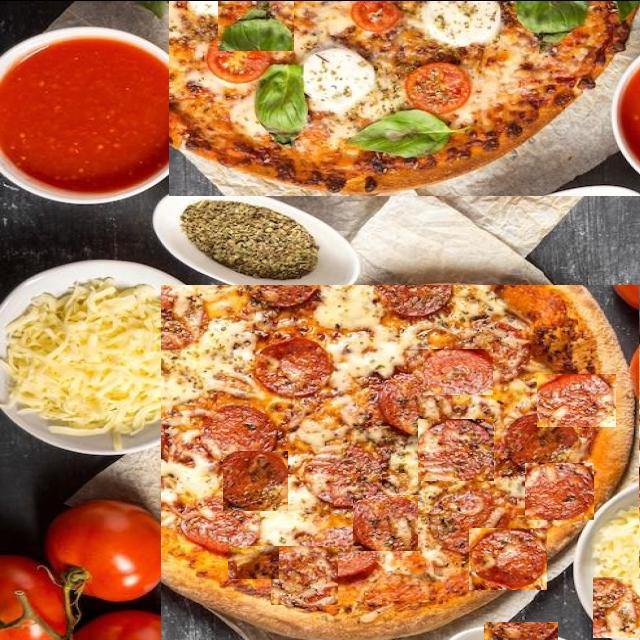basil: (344, 107, 459, 153), (499, 63, 556, 150), (218, 0, 294, 50)
pepperoni: (469, 527, 547, 589), (290, 372, 370, 432), (418, 418, 494, 480), (537, 373, 616, 426), (271, 545, 338, 604), (525, 462, 594, 519), (223, 450, 288, 510), (354, 494, 419, 550), (423, 348, 493, 394), (593, 574, 640, 636), (228, 545, 279, 578), (484, 621, 558, 640)
pizza: (161, 284, 639, 640), (169, 0, 640, 195)
